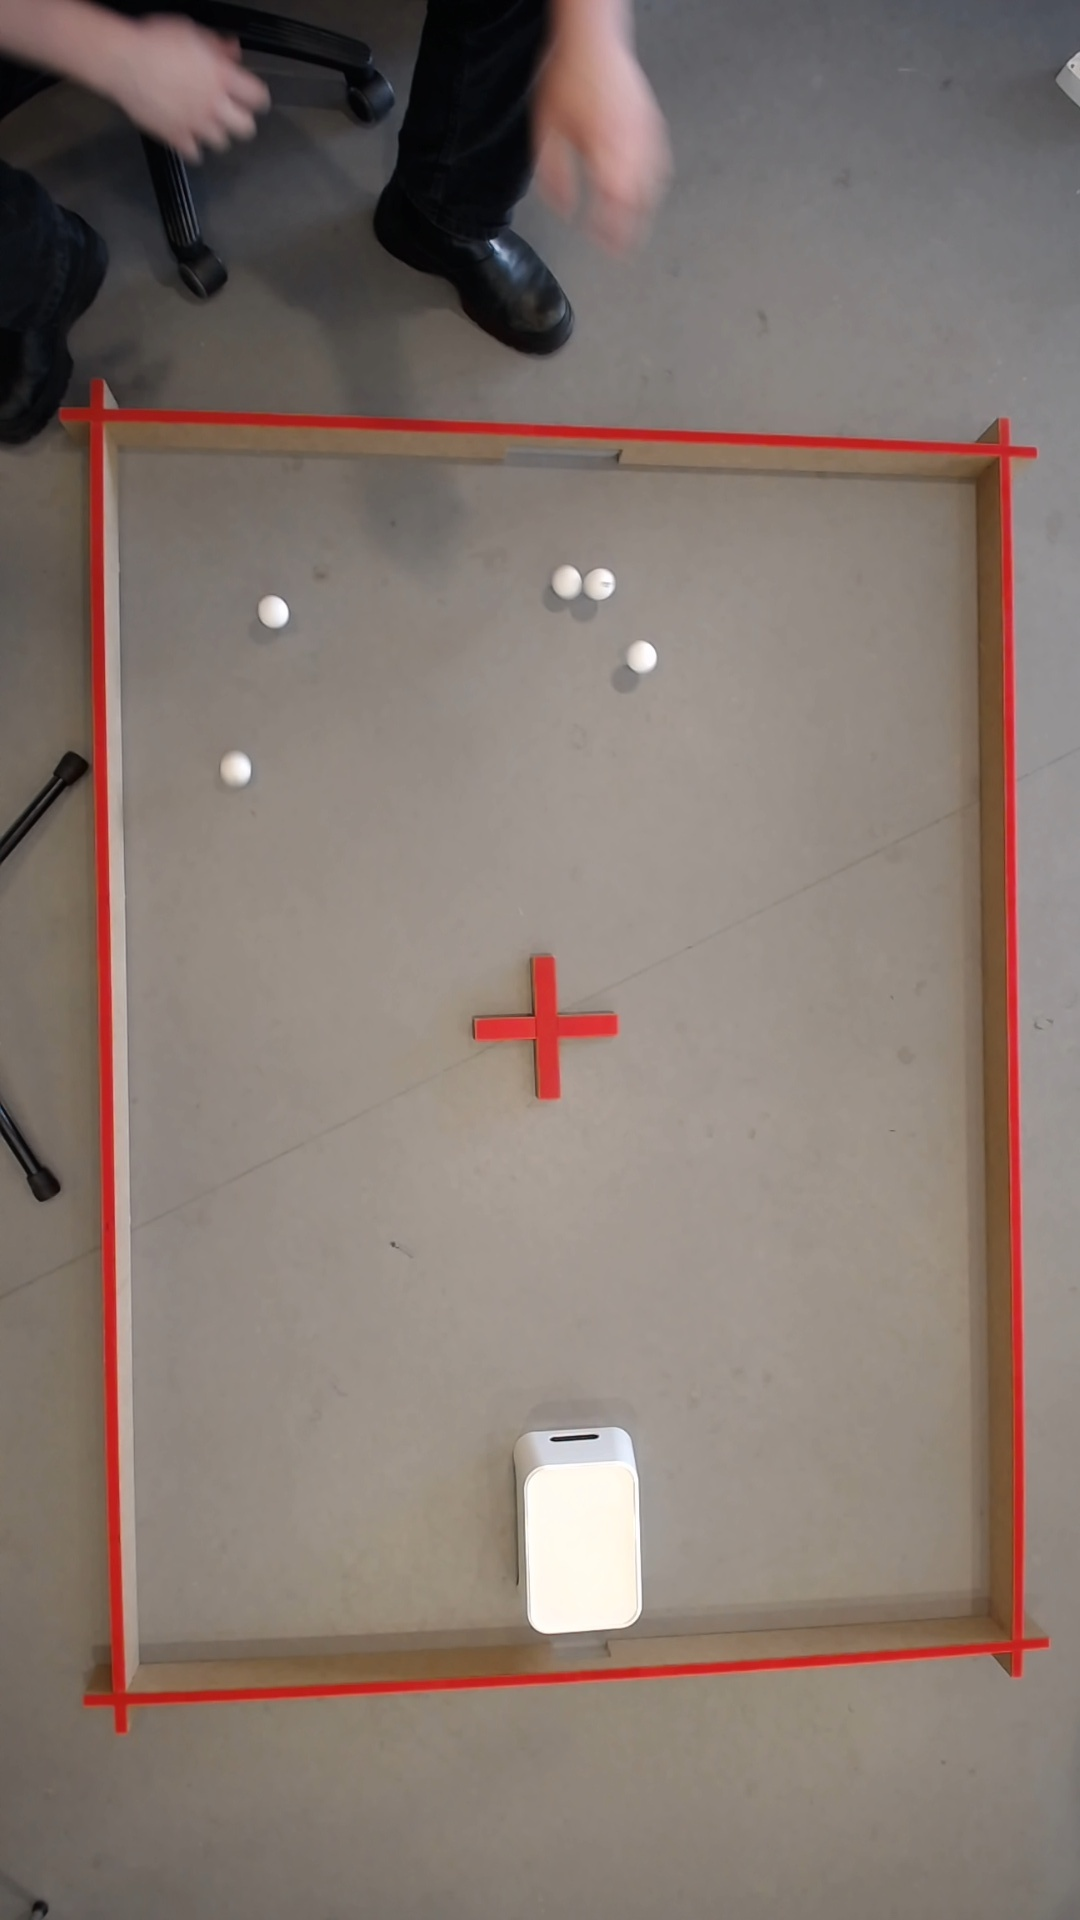balls: (599, 29, 646, 117), (258, 593, 293, 629), (585, 564, 618, 601), (632, 641, 657, 671), (228, 756, 251, 781)
car: (553, 564, 584, 597)
